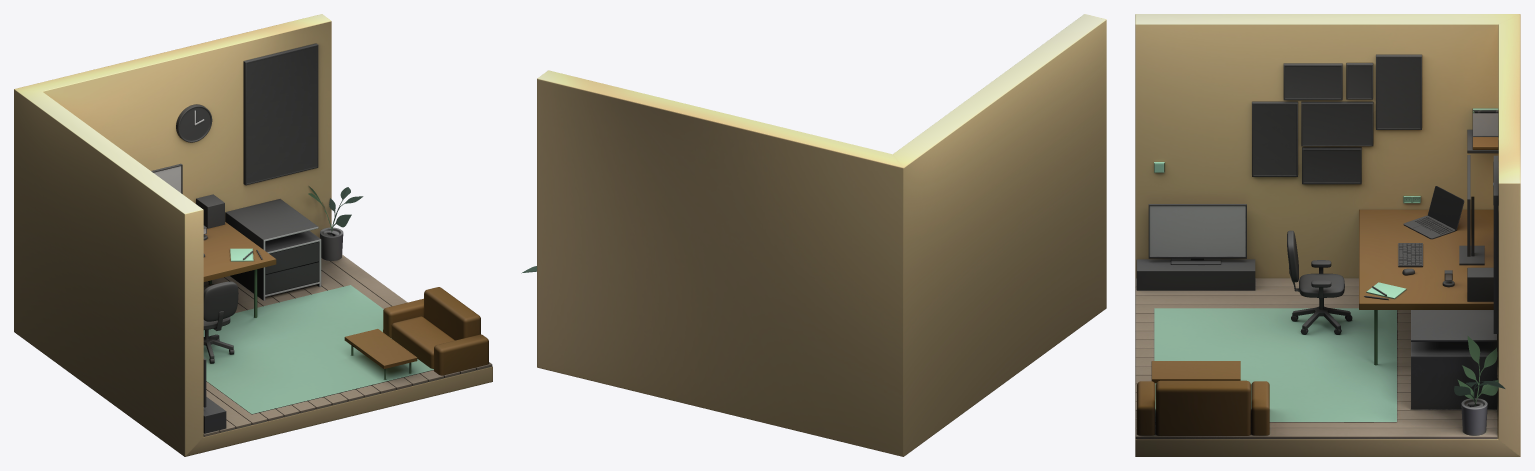
File: room.glb
3 views of the same model, side by side, from view 1: azimuth 30°, elevation 25°; view 2: azimuth 150°, elevation 25°; view 3: azimuth 270°, elevation 25° (orthographic). The views are drawn at different scales.
Parts seen in each view (by area): view 1: room, carpet, experience, floor, sofa, clipboard.001, desk, clipboard, table, chair.011, clock, speaker (+3 smaller); view 2: room; view 3: room, carpet, floor, desk, clipboard.001, sofa, tv, tumb, frame.004, frame.005, frame.002, frame.001 (+16 smaller).
Boxes of the visible parts, x1,y1,x2,y2 form: room: (14, 14, 492, 456); carpet: (203, 285, 433, 413); experience: (243, 43, 318, 185); floor: (203, 254, 492, 436); sofa: (383, 287, 488, 375); clipboard.001: (225, 199, 321, 300); desk: (203, 222, 276, 281); clipboard: (265, 241, 318, 294); table: (344, 329, 417, 368); chair.011: (203, 281, 238, 321); clock: (176, 104, 212, 142); speaker: (196, 194, 224, 228); room: (537, 14, 1106, 456); room: (1135, 14, 1520, 456); carpet: (1154, 308, 1396, 421); floor: (1135, 278, 1497, 439); desk: (1359, 209, 1493, 309); clipboard.001: (1411, 310, 1496, 409); sofa: (1137, 380, 1269, 435); tv: (1148, 204, 1246, 258); tumb: (1136, 259, 1255, 290); frame.004: (1252, 101, 1297, 176); frame.005: (1376, 54, 1421, 129); frame.002: (1301, 101, 1373, 146); frame.001: (1302, 147, 1361, 184).
Size of what is drawn, in the model's own units: 2.85 by 2.01 by 2.57.
16 materials, 16 textured.
